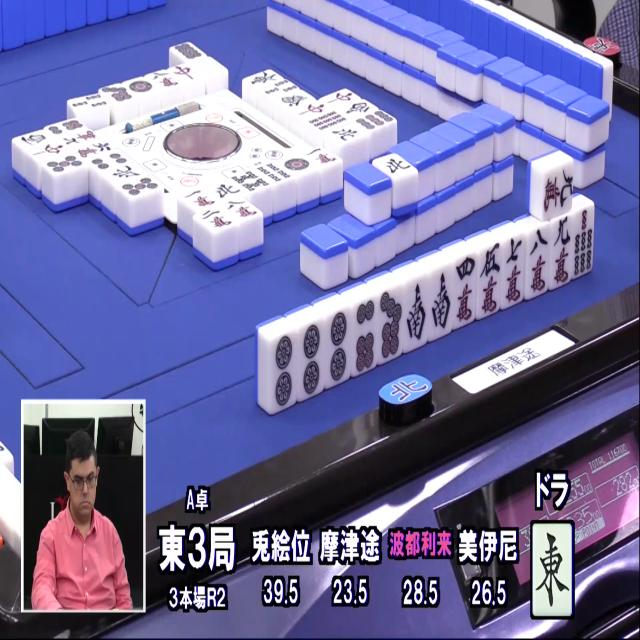east: (534, 524, 574, 612)
m4: (450, 254, 479, 327)
m5: (477, 243, 506, 319)
m7: (502, 235, 530, 309)
m8: (524, 223, 554, 298)
m9: (550, 216, 574, 291), (543, 159, 573, 210)
north: (385, 154, 417, 180)
s7: (572, 204, 596, 281)
south: (402, 279, 431, 351), (428, 267, 455, 338)
t2: (296, 322, 329, 402), (268, 331, 300, 413), (322, 310, 354, 388)
t6: (348, 299, 378, 378)
t7: (376, 288, 407, 362)
